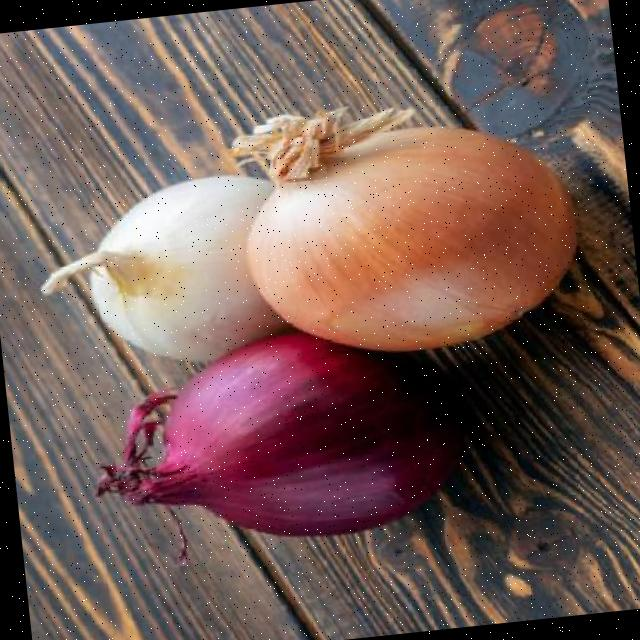Onion: (232, 107, 575, 349), (96, 331, 462, 536), (41, 173, 288, 357)
